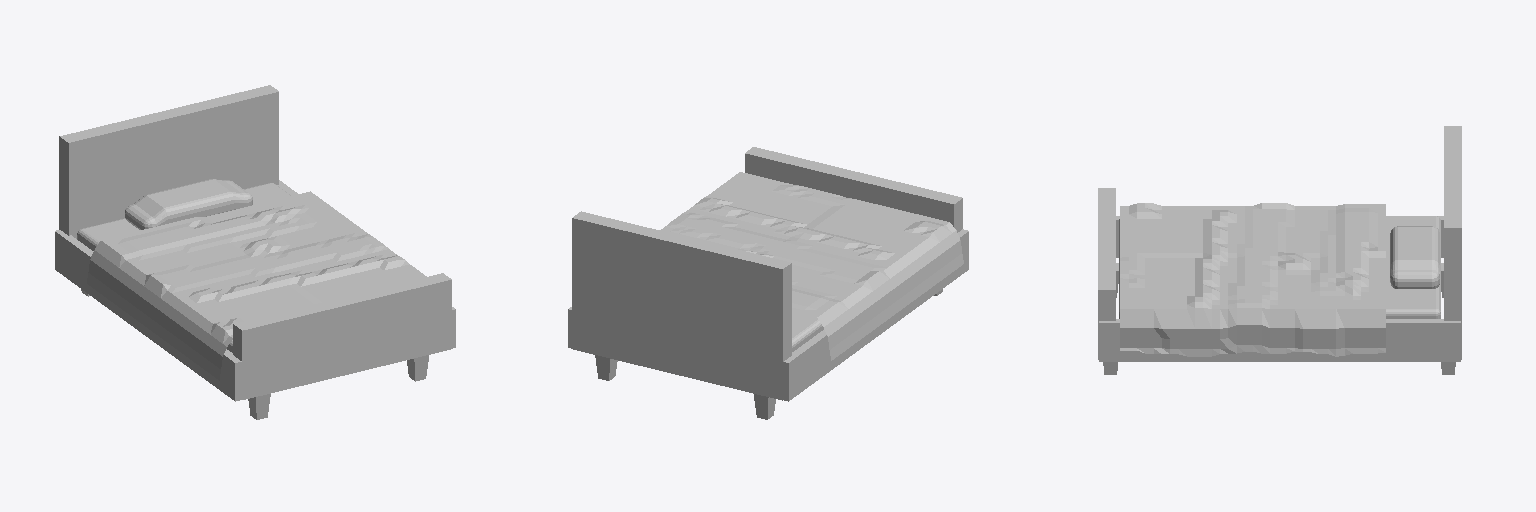
Rendered from Bed.obj.
3 views of the same model, side by side, from view 1: azimuth 30°, elevation 25°; view 2: azimuth 150°, elevation 25°; view 3: azimuth 270°, elevation 25° (orthographic).
Visible parts, largest first — view 1: Bed_Cube.012; view 2: Bed_Cube.012; view 3: Bed_Cube.012.
Boxes of the visible parts, box(x1,y1,x2,y2) form: Bed_Cube.012: box(55, 85, 455, 419); Bed_Cube.012: box(568, 147, 968, 419); Bed_Cube.012: box(1098, 126, 1461, 374).
Size of the model in its own units: 2.34 by 1.52 by 3.17.